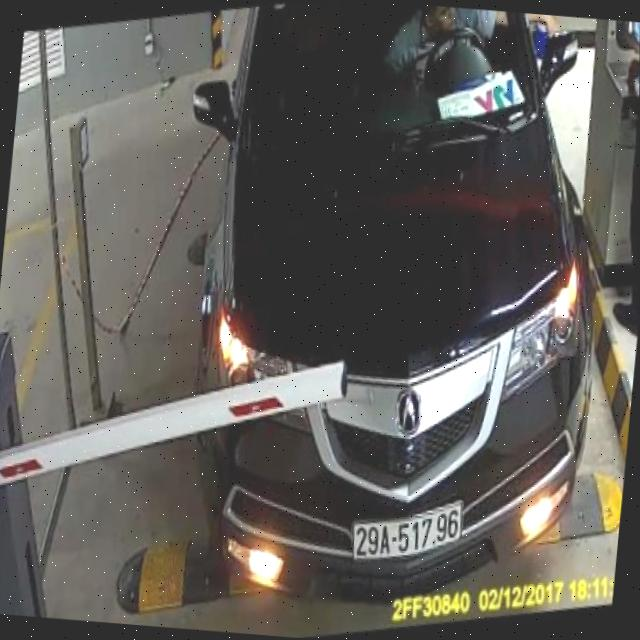car: (141, 0, 625, 628)
plate: (347, 492, 468, 572)
